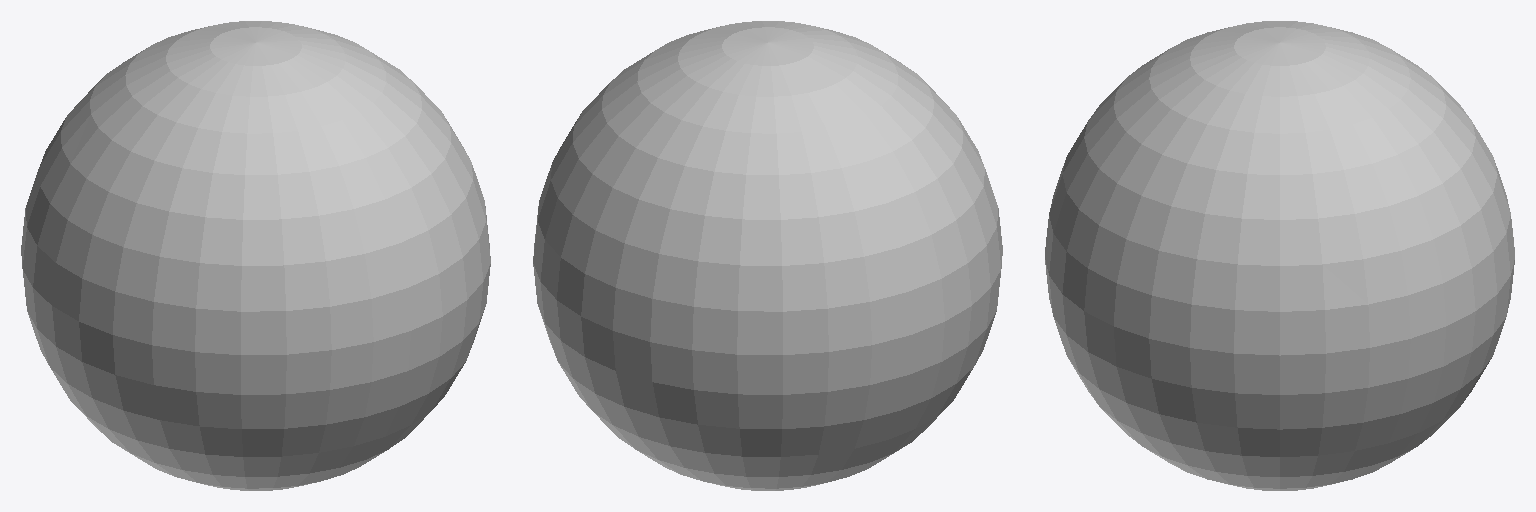
Rendered from Street lamp.obj.
3 renders of one model, left to right at view 1: azimuth 30°, elevation 25°; view 2: azimuth 150°, elevation 25°; view 3: azimuth 270°, elevation 25°, orthographic.
Visible parts, largest first — view 1: Sphere002; view 2: Sphere002; view 3: Sphere002.
Part boxes in pixels (left/top/right/bottom): Sphere002: left=21, top=21, right=490, bottom=490; Sphere002: left=533, top=21, right=1002, bottom=490; Sphere002: left=1045, top=21, right=1514, bottom=490.
Size of the model in its own units: 8314 by 8314 by 8314.